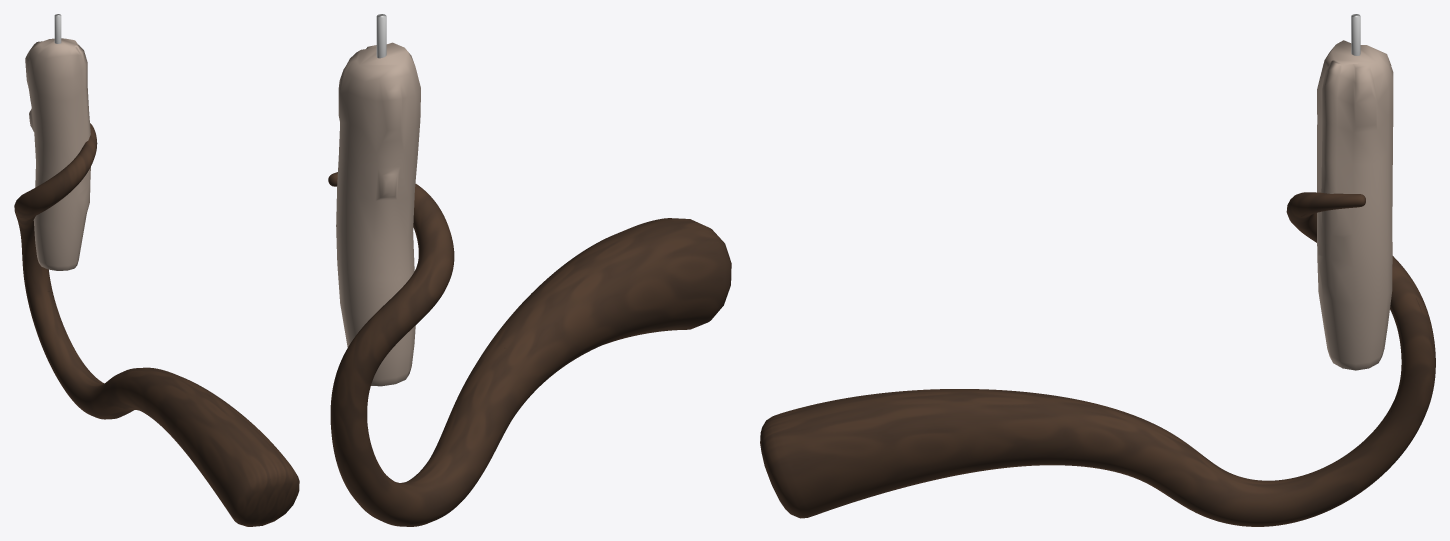
Rendered from Branch.fbx.
3 renders of one model, left to right at view 1: azimuth 30°, elevation 25°; view 2: azimuth 150°, elevation 25°; view 3: azimuth 270°, elevation 25°, orthographic. The views are drawn at different scales.
Visible parts, largest first — view 1: Branch, Cylinder; view 2: Branch, Cylinder; view 3: Branch, Cylinder.
Boxes of the visible parts, bbox=[...] form: Branch: bbox=[14, 123, 299, 526]; Cylinder: bbox=[25, 14, 90, 270]; Branch: bbox=[328, 172, 731, 526]; Cylinder: bbox=[336, 14, 420, 386]; Branch: bbox=[760, 192, 1435, 526]; Cylinder: bbox=[1317, 14, 1393, 370].
Bounding box in the file's own units: 69.79 × 328 × 395.
Materials: 3 (1 with a texture image).
